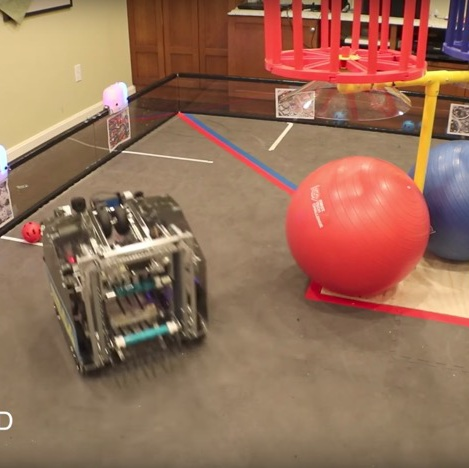redball: (21, 219, 44, 244)
robot: (35, 185, 214, 377)
yogaball: (281, 151, 435, 299), (413, 139, 469, 267)
